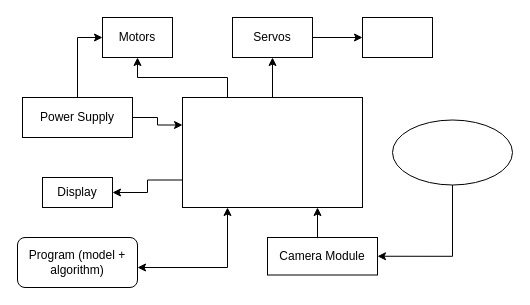
This 530x305 diagram has some shape labels left out. The shapes that lost their labels are listed below. From the top down, each one's centre as x and y in pixels, then its label:
pixel 397 37: LEDs
pixel 272 152: Raspberry Pi
pixel 452 152: Hand positions and movement
